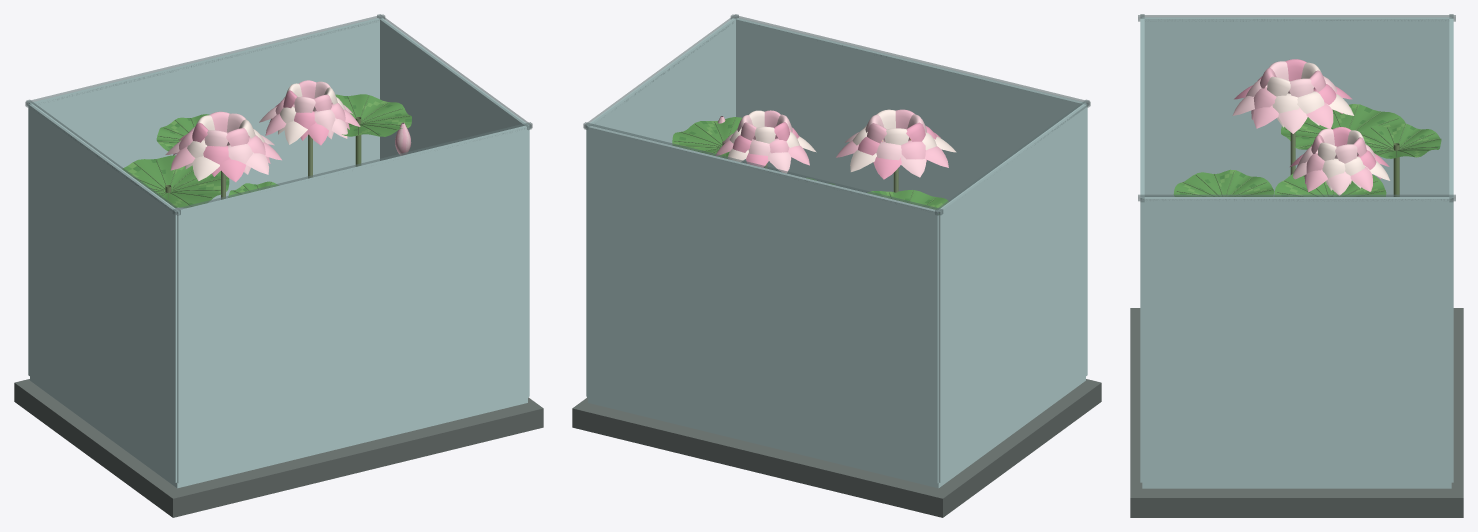
File: plant.glb
The picture shows the model from 3 angles, left to right: view 1: azimuth 30°, elevation 25°; view 2: azimuth 150°, elevation 25°; view 3: azimuth 270°, elevation 25°; orthographic projection. The views are drawn at different scales.
Visible parts, largest first — view 1: Glass front/back, Glass left/right, Glass front/back.001, Pedestal, Glass left/right.001, Emergent lotus leaf 01, Bottom heavy glass, Emergent lotus leaf 02, Top rim.001, Top rim, Top rim.002, Top rim.003 (+1 smaller); view 2: Glass front/back.001, Glass left/right, Glass front/back, Pedestal, Glass left/right.001, Bottom heavy glass, Top rim.001, Top rim, Emergent lotus leaf 02, Top rim.003, Top rim.002, Emergent lotus leaf 01; view 3: Glass left/right.001, Glass left/right, Pedestal, Floating leaf 01, Emergent lotus leaf 03, Emergent lotus leaf 01, Bottom heavy glass, Glass front/back, Glass front/back.001, Top rim.003, Emergent lotus leaf 02, Top rim.002 (+9 smaller).
Part boxes in pixels (x1,y1,x2,y2): Glass front/back: (177, 125, 528, 483); Glass left/right: (28, 103, 177, 482); Glass front/back.001: (29, 18, 380, 209); Pedestal: (14, 379, 543, 517); Glass left/right.001: (380, 18, 529, 396); Emergent lotus leaf 01: (122, 155, 229, 207); Bottom heavy glass: (30, 377, 527, 488); Emergent lotus leaf 02: (335, 94, 411, 136); Top rim.001: (25, 14, 385, 107); Top rim: (172, 122, 532, 215); Top rim.002: (26, 99, 180, 215); Top rim.003: (377, 14, 531, 129); Glass front/back.001: (587, 125, 938, 483); Glass left/right: (938, 104, 1087, 482); Glass front/back: (735, 18, 1086, 201); Pedestal: (572, 379, 1101, 517); Glass left/right.001: (586, 18, 735, 396); Bottom heavy glass: (588, 377, 1085, 488); Top rim.001: (583, 122, 943, 215); Top rim: (730, 14, 1090, 107); Emergent lotus leaf 02: (672, 117, 741, 158); Top rim.003: (584, 14, 738, 129); Top rim.002: (935, 99, 1089, 215); Emergent lotus leaf 01: (867, 190, 948, 214); Glass left/right.001: (1142, 197, 1451, 483); Glass left/right: (1142, 17, 1451, 196); Pedestal: (1130, 308, 1463, 517); Floating leaf 01: (1173, 169, 1274, 196); Emergent lotus leaf 03: (1361, 123, 1441, 158); Emergent lotus leaf 01: (1281, 104, 1405, 149); Bottom heavy glass: (1142, 483, 1451, 488); Glass front/back: (1140, 18, 1144, 482); Glass front/back.001: (1449, 18, 1453, 482); Top rim.003: (1138, 194, 1455, 201); Emergent lotus leaf 02: (1274, 173, 1386, 196); Top rim.002: (1138, 15, 1455, 21).
Size of what is drawn, in the model's own units: 4.65 by 3.7 by 3.45.
